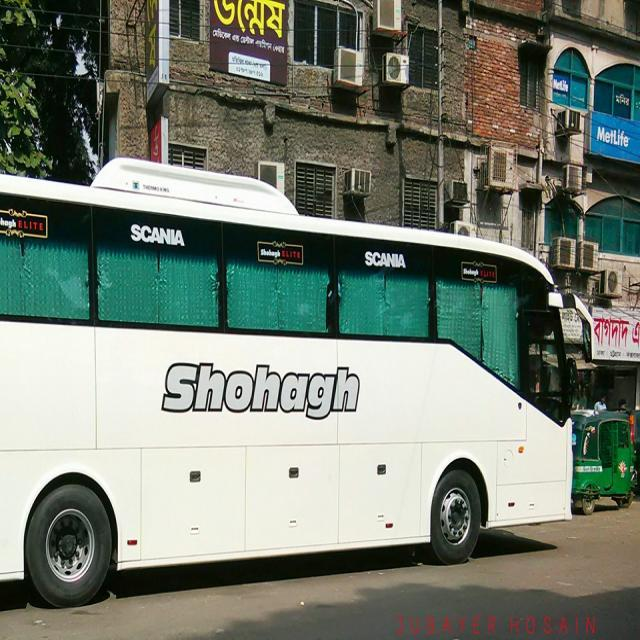bus: (0, 152, 596, 612)
